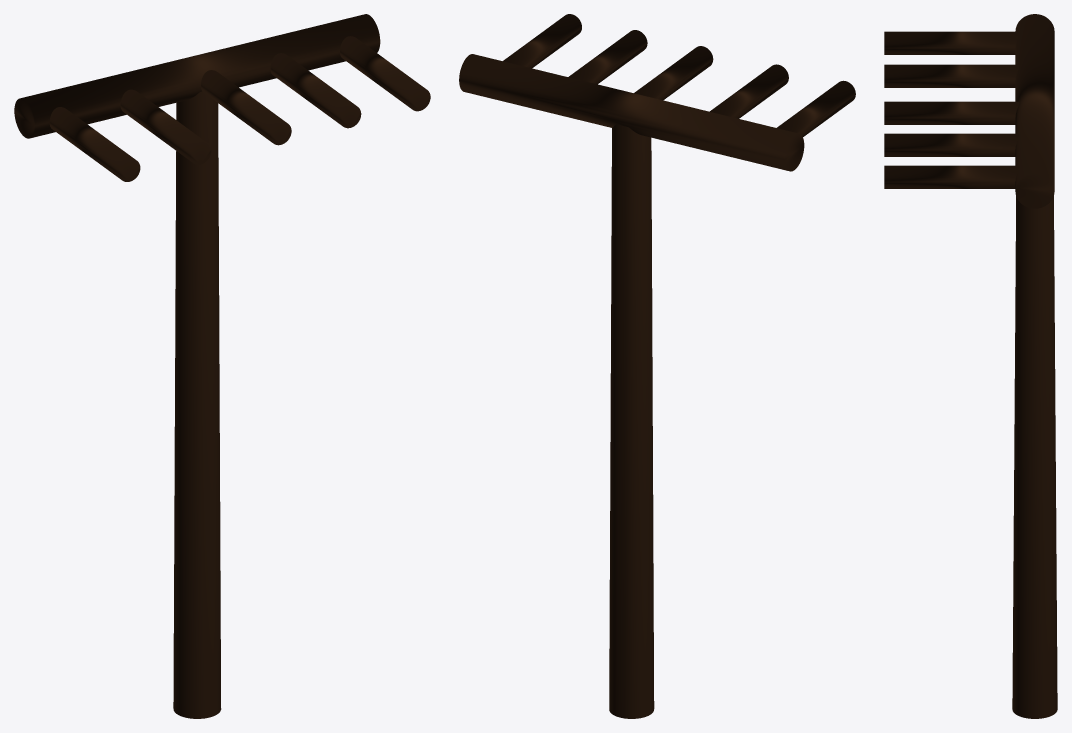
The model's file is Rake.fbx.
3 renders of one model, left to right at view 1: azimuth 30°, elevation 25°; view 2: azimuth 150°, elevation 25°; view 3: azimuth 270°, elevation 25°, orthographic. The views are drawn at different scales.
Visible parts, largest first — view 1: Cylinder; view 2: Cylinder; view 3: Cylinder.
Boxes of the visible parts, <box> form: Cylinder: <box>14,14,430,718</box>; Cylinder: <box>459,14,855,718</box>; Cylinder: <box>884,14,1057,718</box>.
Size of the model in its own units: 139 by 251 by 64.01.
